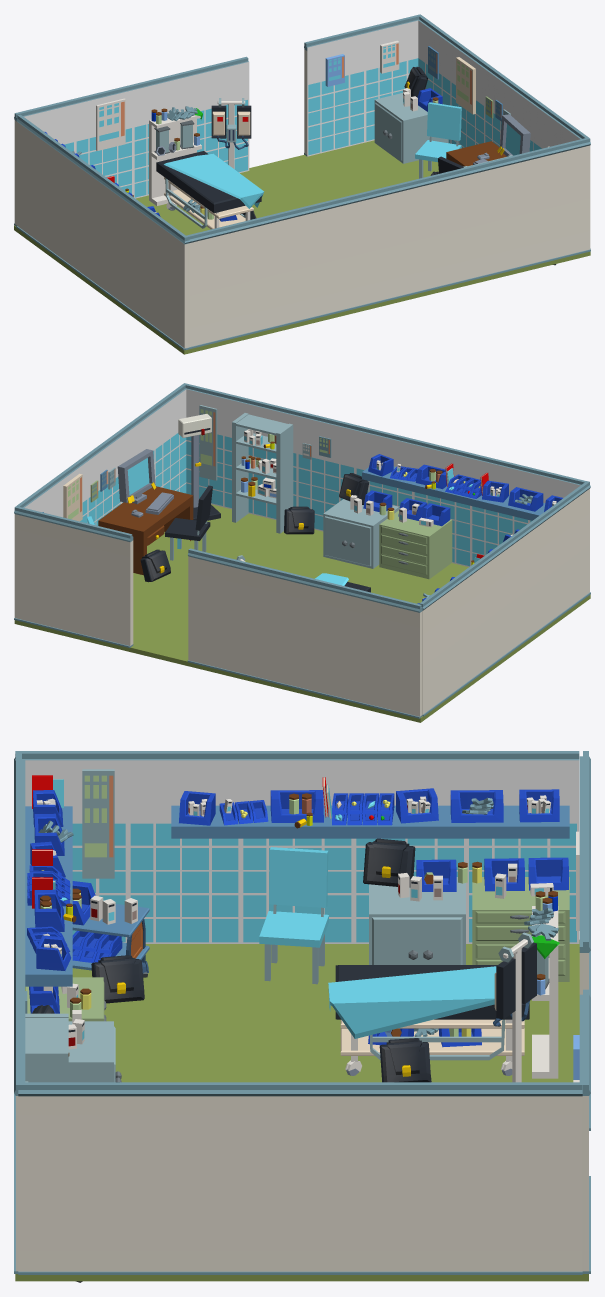
File: g_o_RoomResuscitation.fbx
3 renders of one model, top to bottom at view 1: azimuth 30°, elevation 25°; view 2: azimuth 150°, elevation 25°; view 3: azimuth 270°, elevation 25°, orthographic. The views are drawn at different scales.
Parts seen in each view (by area): view 1: Resuscitation_Room5; view 2: Resuscitation_Room5; view 3: Resuscitation_Room5.
Part boxes in pixels (<box>): Resuscitation_Room5: <box>14,14,590,354</box>; Resuscitation_Room5: <box>14,383,590,722</box>; Resuscitation_Room5: <box>14,751,590,1282</box>.
Bounding box in the file's own units: 704 × 204 × 511.
